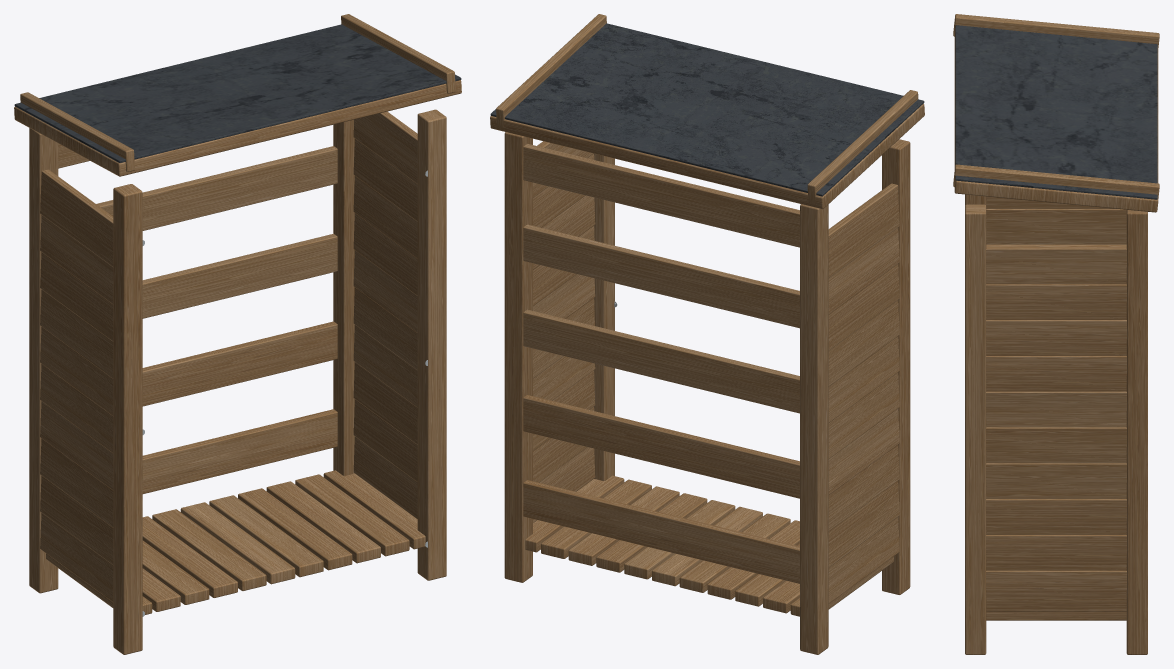
Rendered from outdoor-log-store.glb.
3 views of the same model, side by side, from view 1: azimuth 30°, elevation 25°; view 2: azimuth 150°, elevation 25°; view 3: azimuth 270°, elevation 25° (orthographic). The views are drawn at different scales.
Parts seen in each view (by area): view 1: catalog_surface_UVMap; view 2: catalog_surface_UVMap; view 3: catalog_surface_UVMap.
Part boxes in pixels (box(x1,y1,x2,y2)): catalog_surface_UVMap: box(14, 14, 461, 654); catalog_surface_UVMap: box(490, 14, 924, 654); catalog_surface_UVMap: box(953, 14, 1159, 654).
Bounding box in the file's own units: 1.2 × 1.7 × 0.65.
3 materials, 2 textured.
